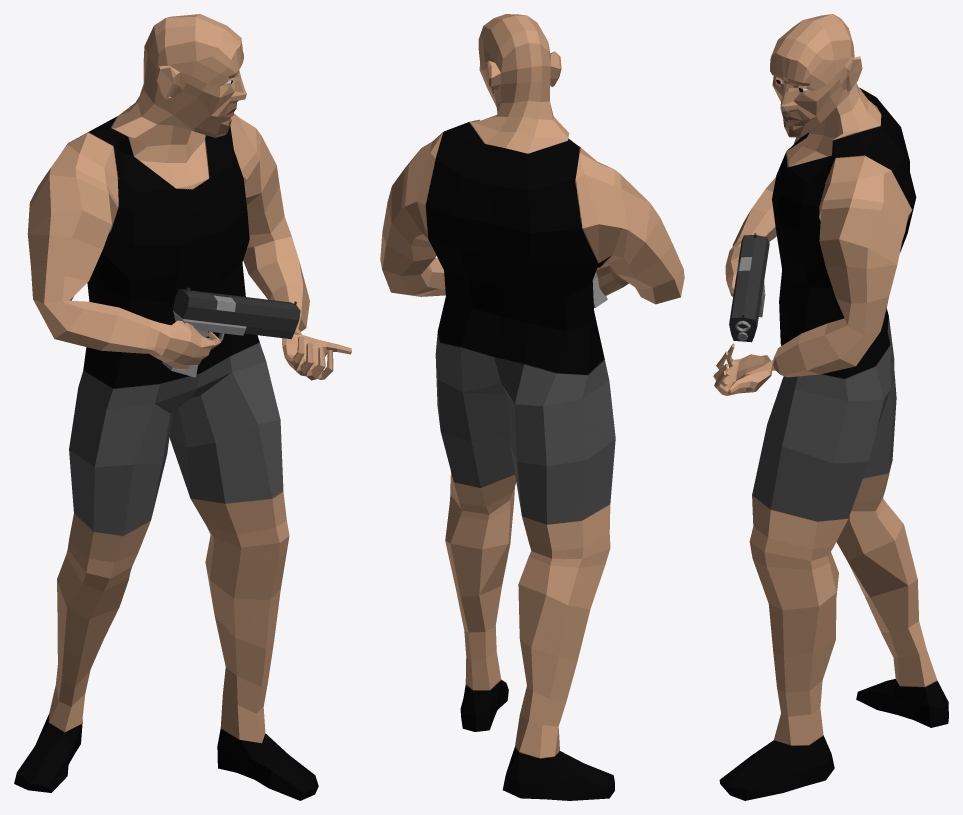
Rendered from PlayerIdle(129).obj.
3 views of the same model, side by side, from view 1: azimuth 30°, elevation 25°; view 2: azimuth 150°, elevation 25°; view 3: azimuth 270°, elevation 25° (orthographic). The views are drawn at different scales.
Parts seen in each view (by area): view 1: Plane002, Box003; view 2: Plane002; view 3: Plane002, Box003.
Part boxes in pixels (bbox=[...]): Plane002: bbox=[14, 14, 351, 800]; Box003: bbox=[162, 287, 300, 377]; Plane002: bbox=[380, 14, 684, 800]; Plane002: bbox=[713, 14, 948, 800]; Box003: bbox=[729, 233, 769, 342].
Size of the model in its own units: 698 by 1796 by 519.
